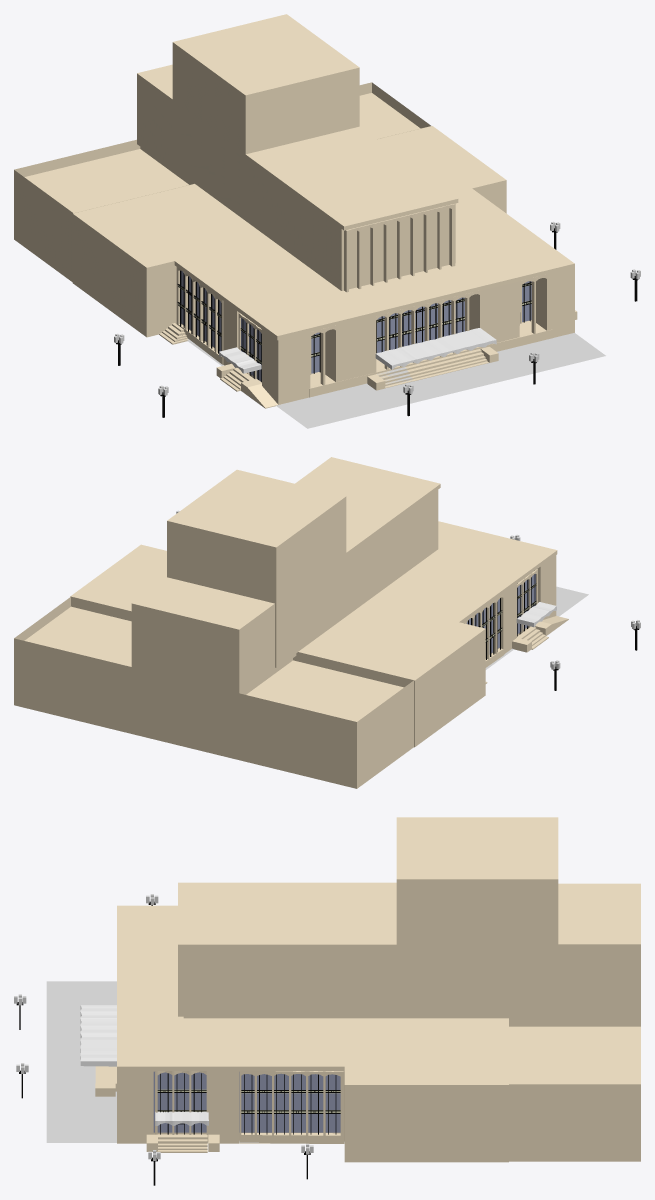
The model's file is TeatrodelCibao.fbx.
The picture shows the model from 3 angles, top to bottom: view 1: azimuth 30°, elevation 25°; view 2: azimuth 150°, elevation 25°; view 3: azimuth 270°, elevation 25°; orthographic projection. The views are drawn at different scales.
Parts seen in each view (by area): view 1: Cube, Cube.001, Plane, techo 1.002, Plane.002, techo 3, techo 1.006, techo 1.001, Cube.008, techo 1, Plane.001, techo 1.007; view 2: Cube, Cube.001, techo 1.001, Plane.001, Plane, techo 1.007; view 3: Cube, Cube.001, Plane, Plane.003, Plane.005, techo 1.004, techo 1.006, Cube.010, techo 1.005, techo 1.008.
Boxes of the visible parts, x1,y1,x2,y2 form: Cube: (14,64,574,404); Cube.001: (172,14,458,290); Plane: (187,333,605,428); techo 1.002: (241,204,455,408); Plane.002: (311,281,531,373); techo 3: (309,320,553,397); techo 1.006: (375,328,496,369); techo 1.001: (176,267,223,364); Cube.008: (376,349,488,388); techo 1: (375,290,480,369); Plane.001: (181,271,261,381); techo 1.007: (219,347,261,373); Cube: (14,521,557,788); Cube.001: (167,457,440,667); techo 1.001: (463,593,504,667); Plane.001: (466,573,535,654); Plane: (485,586,588,669); techo 1.007: (516,602,556,627); Cube: (117,883,640,1162); Cube.001: (178,817,558,1018); Plane: (46,981,344,1142); Plane.003: (153,1071,340,1132); Plane.005: (187,1072,340,1132); techo 1.004: (239,1071,344,1143); techo 1.006: (80,1005,116,1066); Cube.010: (157,1134,207,1152); techo 1.005: (155,1071,208,1142); techo 1.008: (155,1111,208,1125).
Size of what is drawn, in the model's own units: 18025 by 7097 by 18307.
